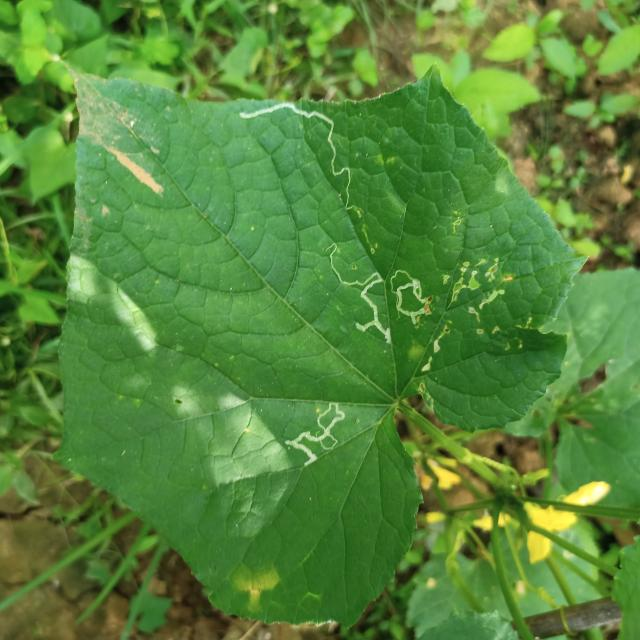disease_cucumber: (231, 566, 278, 612)
